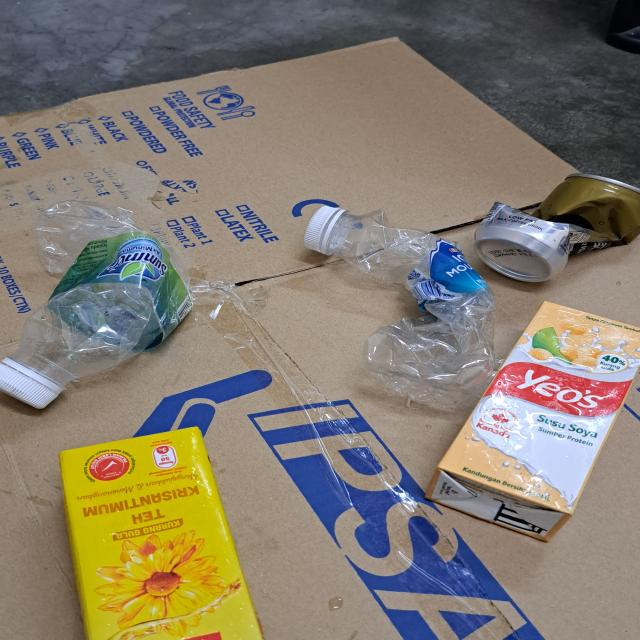can: (473, 173, 640, 283)
cardboard: (0, 35, 640, 640)
drink carton: (427, 301, 640, 542), (56, 427, 261, 640)
plastic bottle: (0, 201, 195, 409), (302, 202, 494, 410)
plastic bottle cap: (0, 356, 62, 412), (298, 201, 346, 254)
